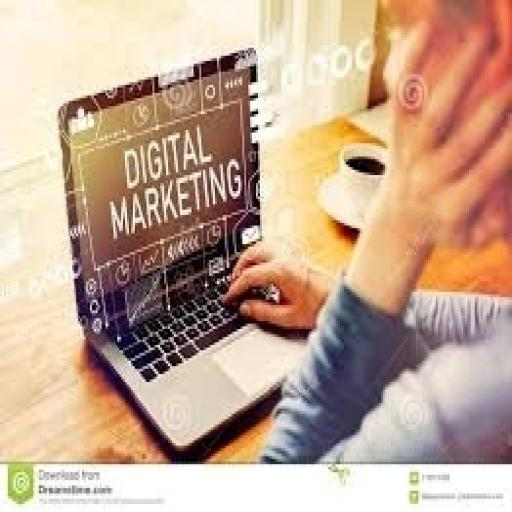using_laptop: (54, 42, 320, 456)
